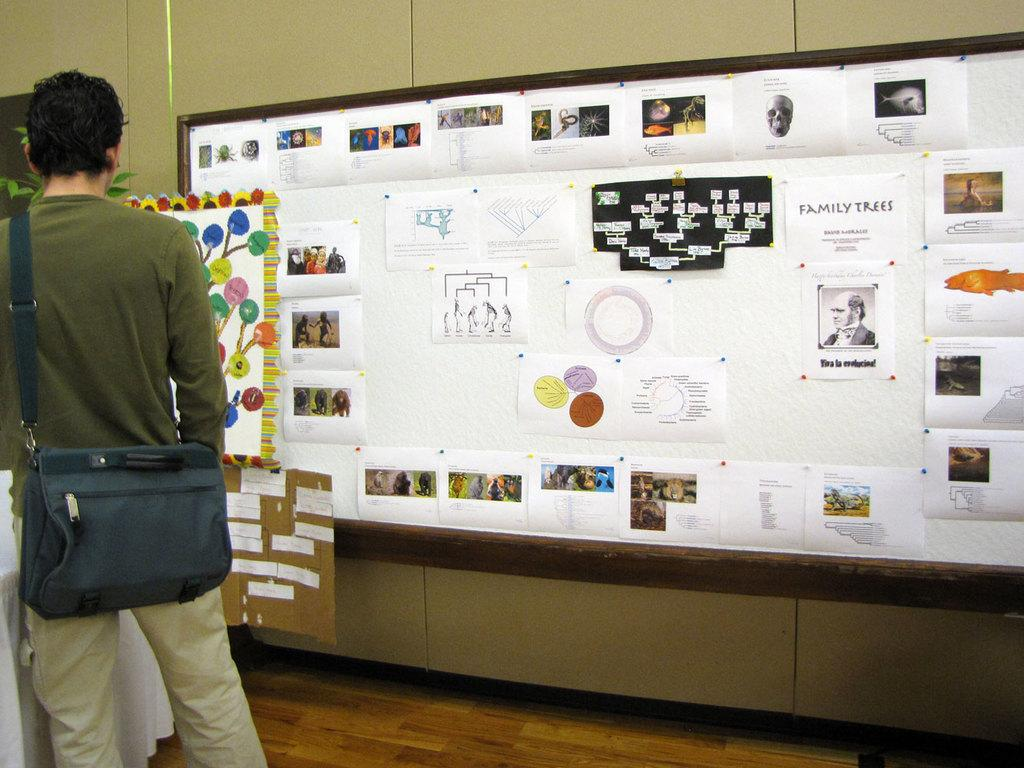Luggage-and-bags: (16, 210, 232, 617)
